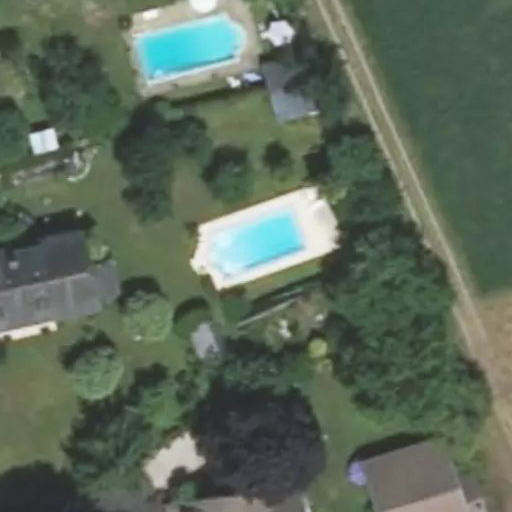pool: (200, 237, 305, 249)
